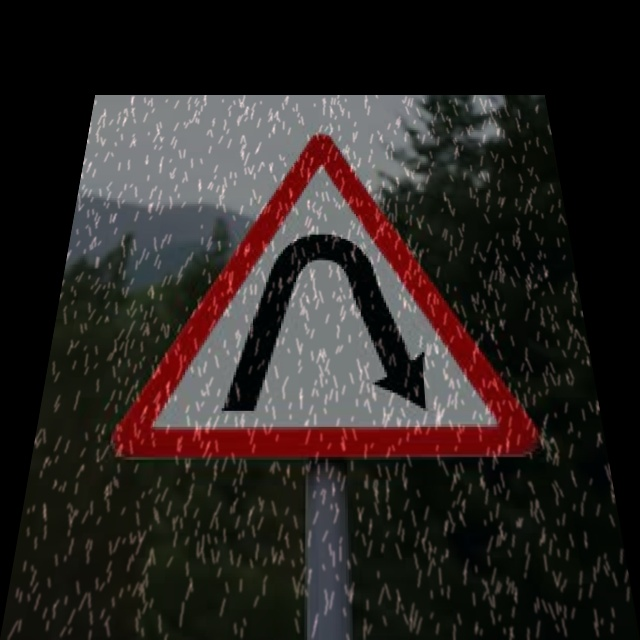Right_Hair_Pin_Bend: (114, 135, 533, 451)
